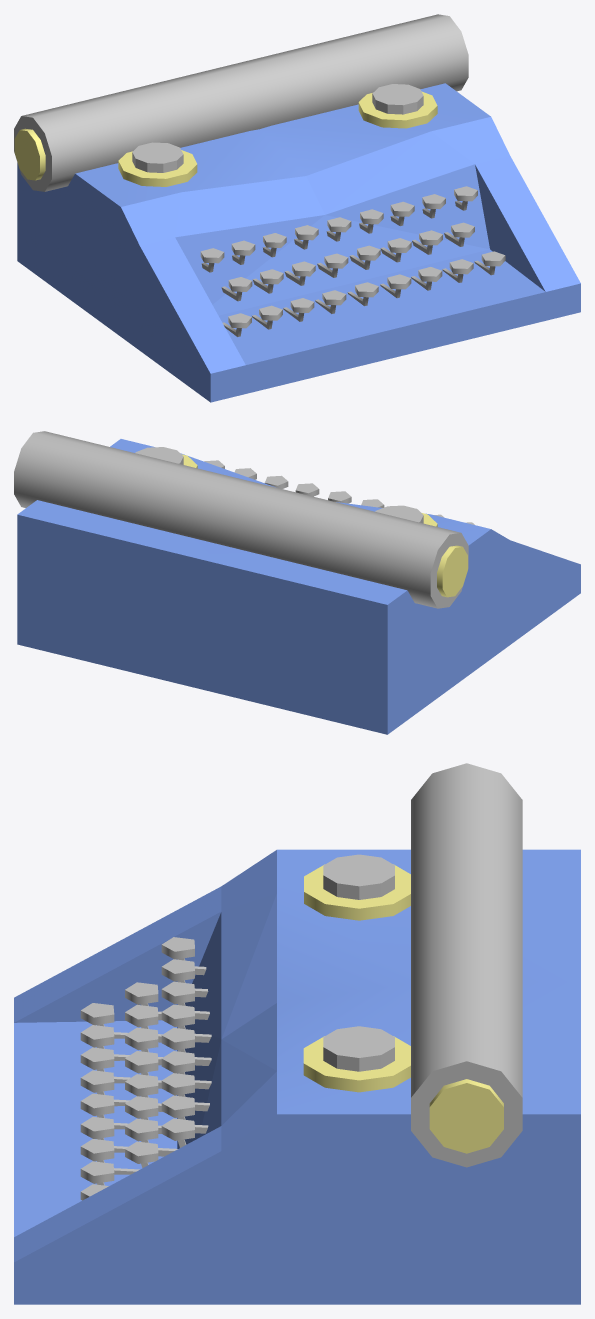
Rendered from TypeWriter.FBX.
The picture shows the model from 3 angles, top to bottom: view 1: azimuth 30°, elevation 25°; view 2: azimuth 150°, elevation 25°; view 3: azimuth 270°, elevation 25°; orthographic projection. The views are drawn at different scales.
Parts seen in each view (by area): view 1: Box006; view 2: Box006; view 3: Box006.
Boxes of the visible parts, bbox=[...] form: Box006: bbox=[14, 14, 580, 402]; Box006: bbox=[14, 431, 580, 734]; Box006: bbox=[14, 763, 580, 1304].
Size of the model in its own units: 75.08 by 29.77 by 58.81.
